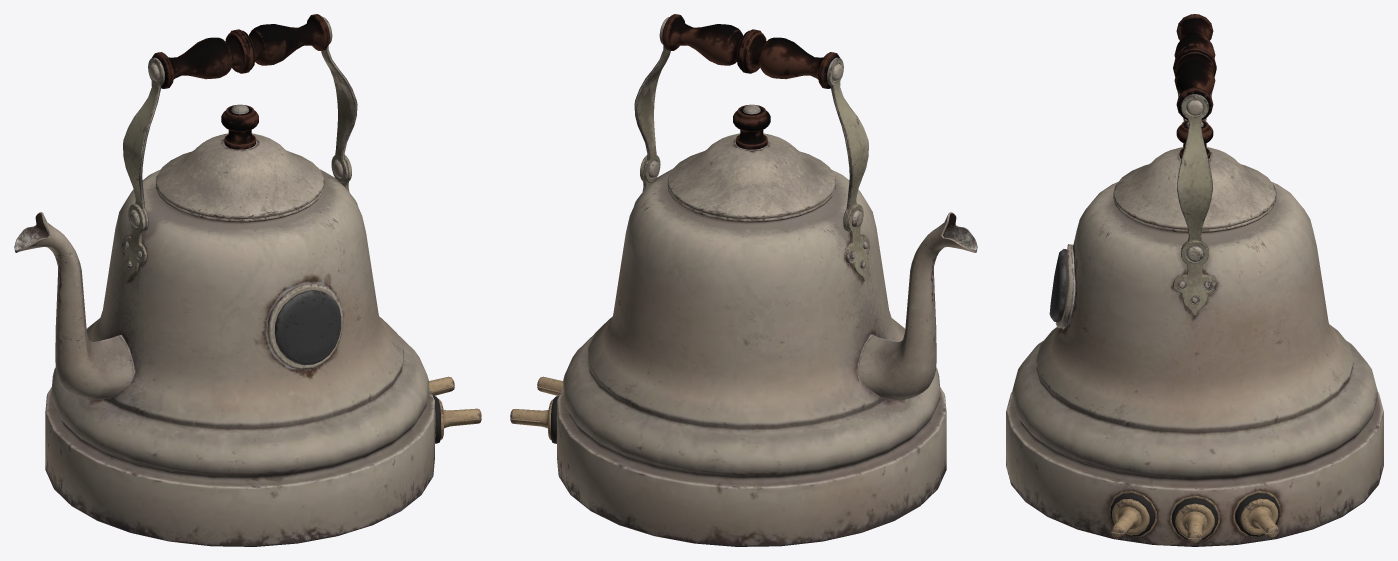
The model's file is vintage_electric_kettle.glb.
3 renders of one model, left to right at view 1: azimuth 30°, elevation 25°; view 2: azimuth 150°, elevation 25°; view 3: azimuth 270°, elevation 25°, orthographic. The views are drawn at different scales.
Visible parts, largest first — view 1: vintage_electric_kettle; view 2: vintage_electric_kettle; view 3: vintage_electric_kettle.
Boxes of the visible parts, x1,y1,x2,y2 form: vintage_electric_kettle: (14, 14, 481, 546); vintage_electric_kettle: (510, 14, 977, 546); vintage_electric_kettle: (1006, 14, 1383, 546).
Bounding box in the file's own units: 0.3209 × 0.3047 × 0.2486.
2 materials, 2 textured.
